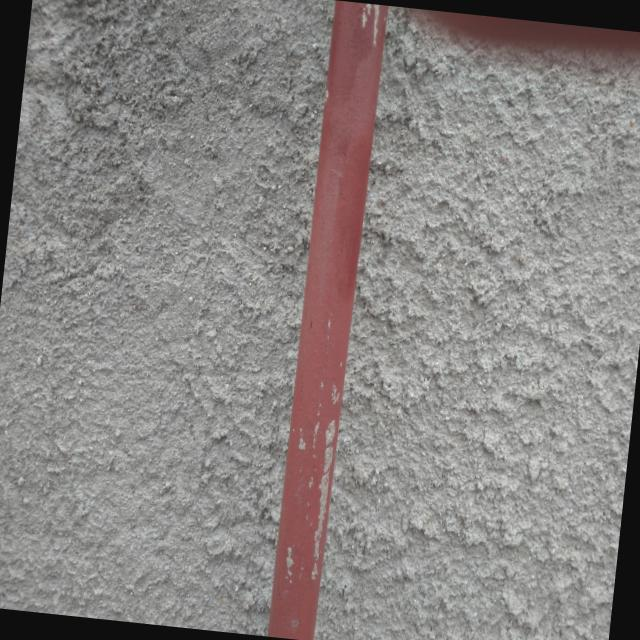gas: (264, 0, 388, 640)
